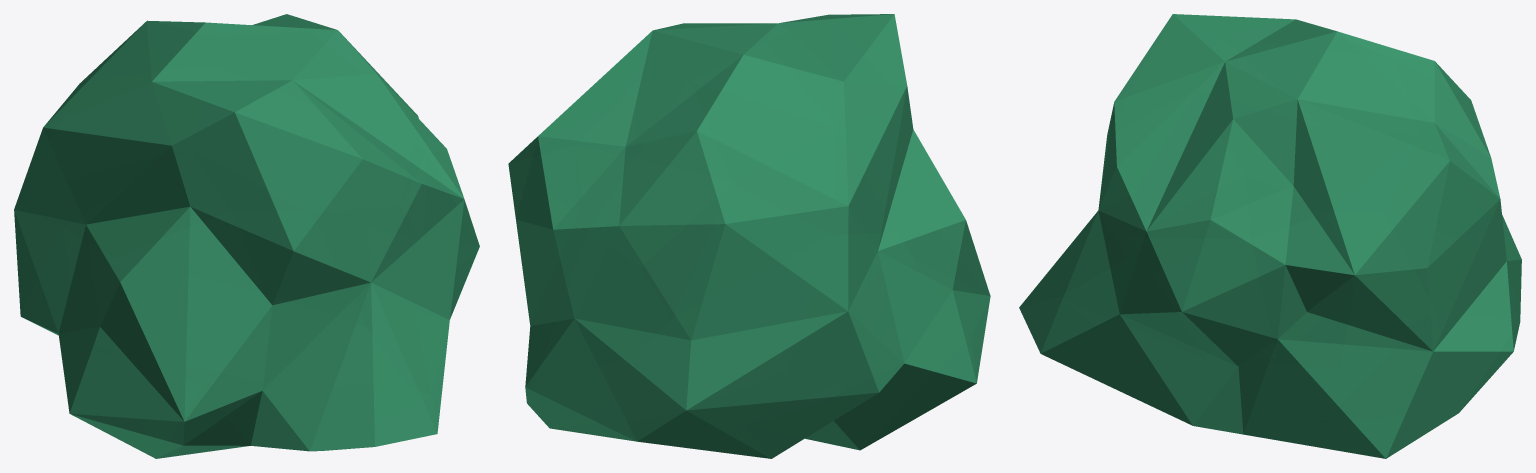
The model's file is emerald piece 2.glb.
3 renders of one model, left to right at view 1: azimuth 30°, elevation 25°; view 2: azimuth 150°, elevation 25°; view 3: azimuth 270°, elevation 25°, orthographic. The views are drawn at different scales.
Visible parts, largest first — view 1: Cube.002; view 2: Cube.002; view 3: Cube.002.
Part boxes in pixels (box(x1,y1,x2,y2)): Cube.002: box(14, 14, 479, 458); Cube.002: box(508, 14, 990, 458); Cube.002: box(1019, 14, 1521, 458).
Bounding box in the file's own units: 0.0373 × 0.0346 × 0.0432.
